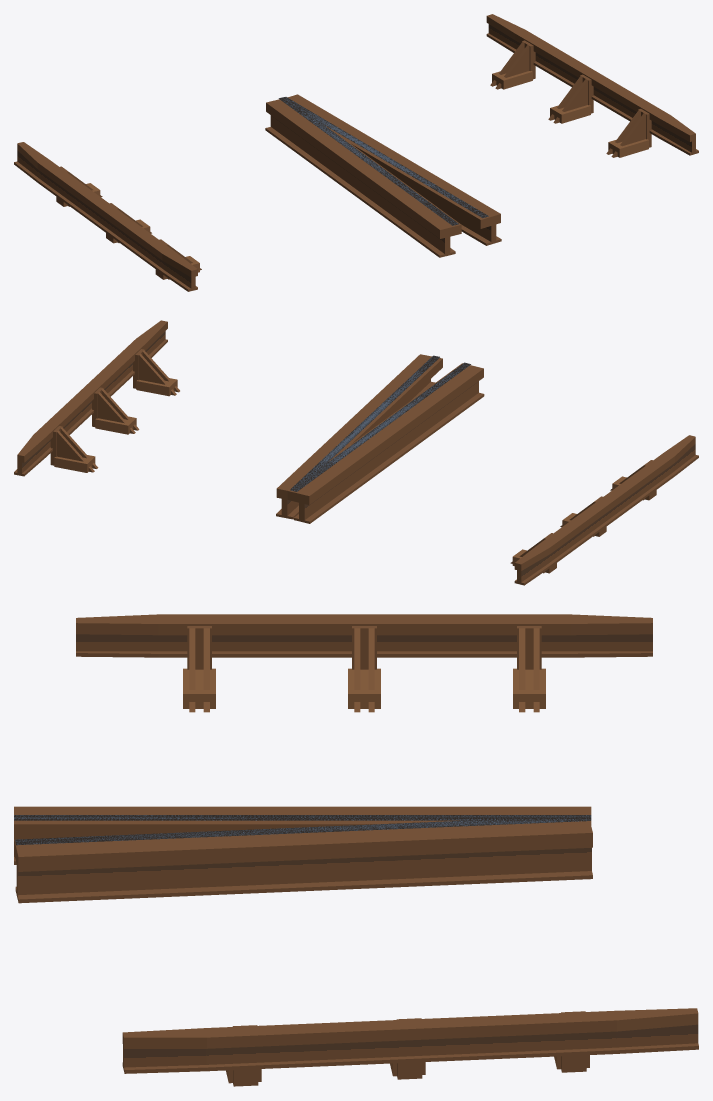
The model's file is frog_10.obj.
3 renders of one model, top to bottom at view 1: azimuth 30°, elevation 25°; view 2: azimuth 150°, elevation 25°; view 3: azimuth 270°, elevation 25°, orthographic. The views are drawn at different scales.
Visible parts, largest first — view 1: cube; view 2: cube; view 3: cube.
Boxes of the visible parts, x1,y1,x2,y2 form: cube: [14, 14, 698, 291]; cube: [14, 320, 698, 585]; cube: [14, 614, 698, 1086].
Bounding box in the file's own units: 3.05 × 0.1937 × 2.08.
